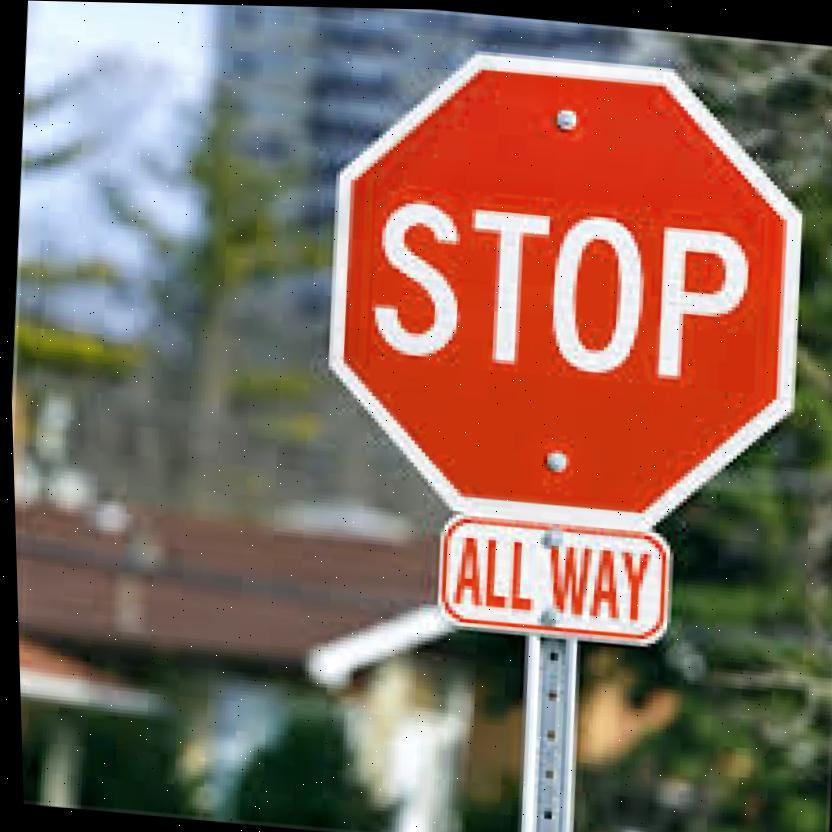Pole: (510, 638, 581, 832)
Sign: (317, 34, 818, 535)
